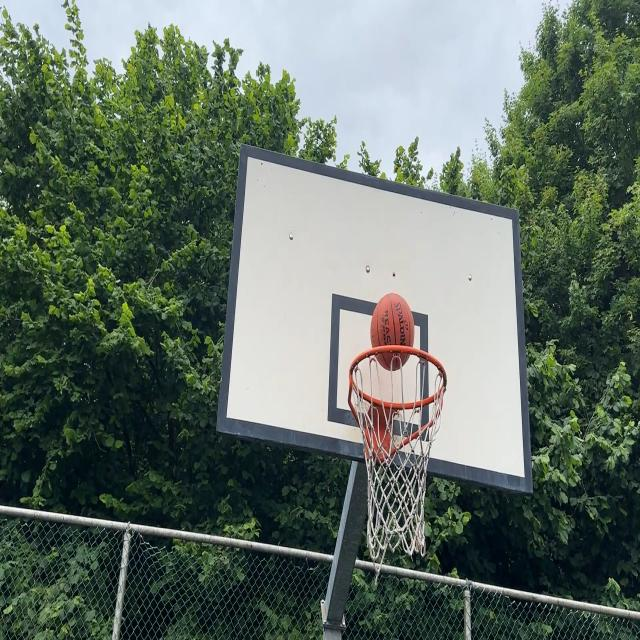Basketball: (369, 293, 415, 371)
